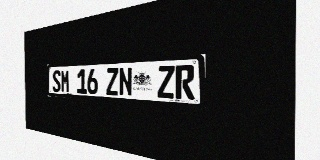1: (77, 69, 87, 94)
6: (87, 68, 98, 94)
M: (61, 70, 70, 93)
N: (119, 67, 132, 96)
R: (175, 65, 195, 100)
S: (52, 70, 61, 92)
Z: (157, 65, 175, 99), (106, 68, 118, 95)
